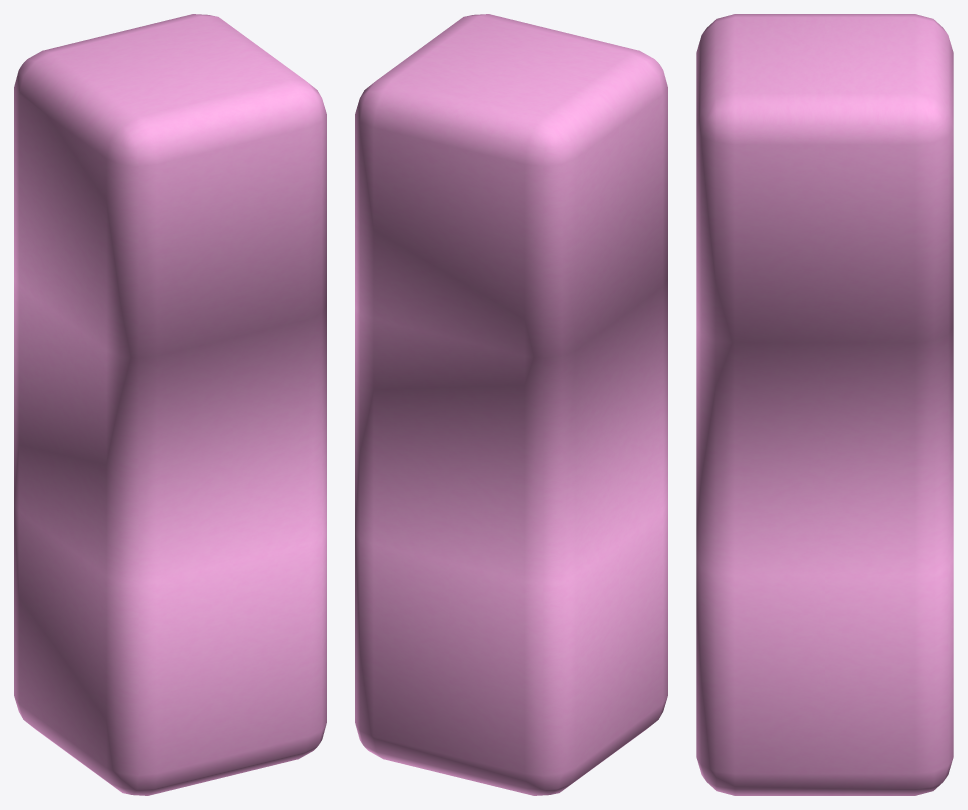
File: __clay_block_07_25.obj
3 renders of one model, left to right at view 1: azimuth 30°, elevation 25°; view 2: azimuth 150°, elevation 25°; view 3: azimuth 270°, elevation 25°, orthographic. The views are drawn at different scales.
Parts seen in each view (by area): view 1: clay_block_25; view 2: clay_block_25; view 3: clay_block_25.
Boxes of the visible parts, box(x1,y1,x2,y2) form: clay_block_25: box(14, 14, 326, 795); clay_block_25: box(355, 14, 667, 795); clay_block_25: box(696, 14, 953, 795).
Bounding box in the file's own units: 1 × 3 × 1.
Materials: 1 (1 with a texture image).
